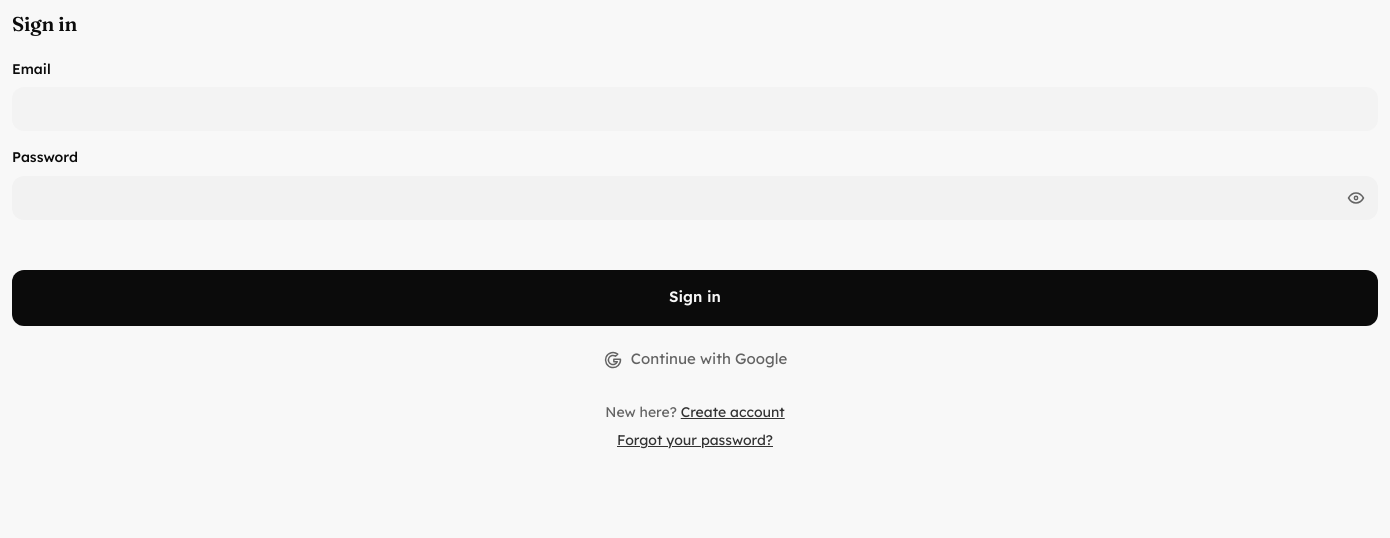
SignInForm › a failed Google sign-in start shows calm form-level copy
Click the button "Continue with Google". click: (695, 360)
box: [586,338,804,382]
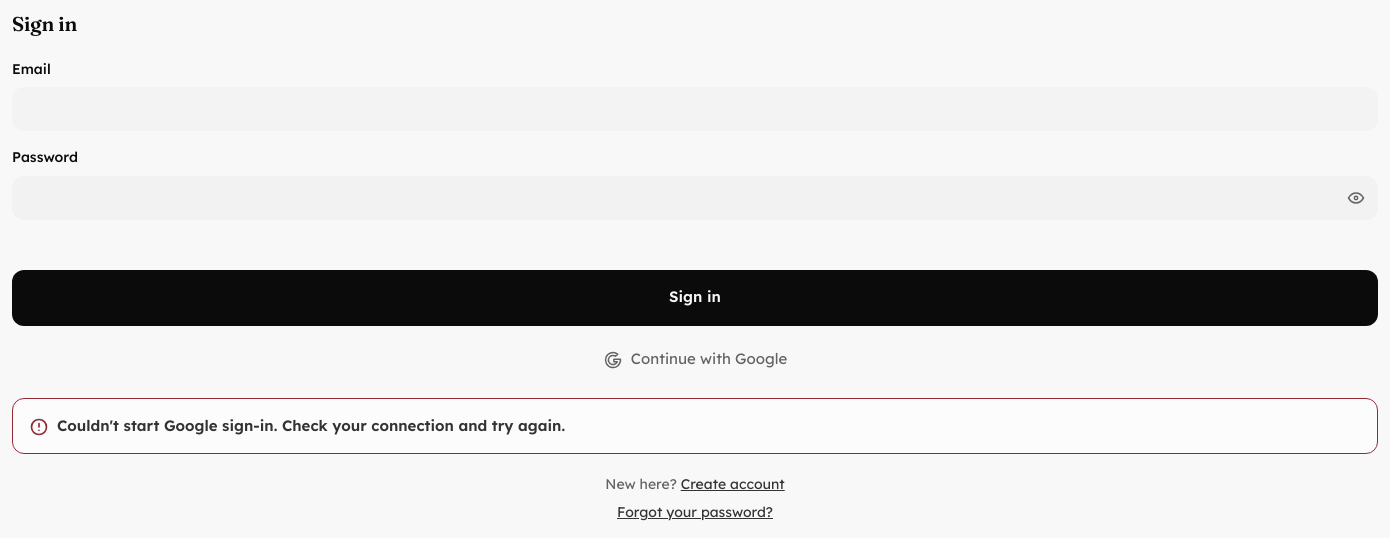
Expected: the text "Couldn't start Google sign-in. Check your connection and try again." is shown, [57,415,565,437]
